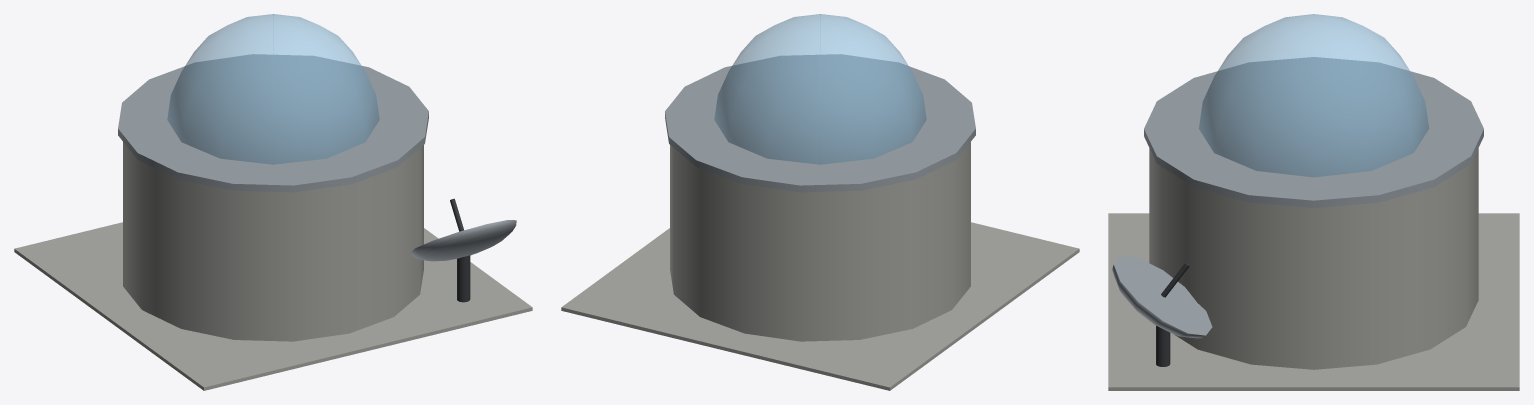
File: bld_special_research_center_a06.glb
3 renders of one model, left to right at view 1: azimuth 30°, elevation 25°; view 2: azimuth 150°, elevation 25°; view 3: azimuth 270°, elevation 25°, orthographic. The views are drawn at different scales.
Parts seen in each view (by area): view 1: body, antenna; view 2: body; view 3: body, antenna.
Part boxes in pixels (x1,y1,x2,y2): body: (14, 14, 532, 390); antenna: (411, 198, 516, 302); body: (561, 14, 1079, 390); body: (1108, 14, 1519, 390); antenna: (1112, 256, 1212, 366).
Size of what is drawn, in the model's own units: 15.2 by 11.25 by 15.
